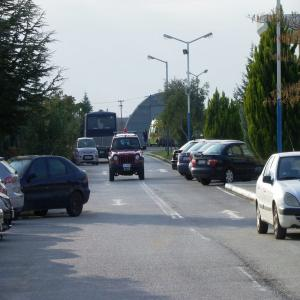Vehicle-registration-plate: (199, 160, 207, 167), (85, 156, 94, 161), (184, 157, 192, 161), (124, 164, 131, 168), (176, 155, 181, 157)
